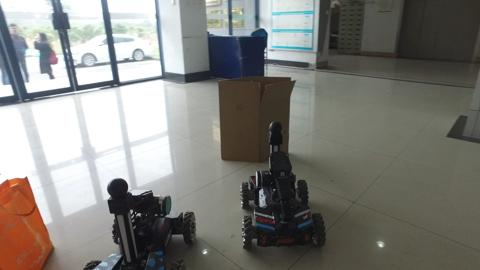box: (217, 70, 268, 162)
chariot: (239, 121, 329, 250), (86, 176, 198, 270)
